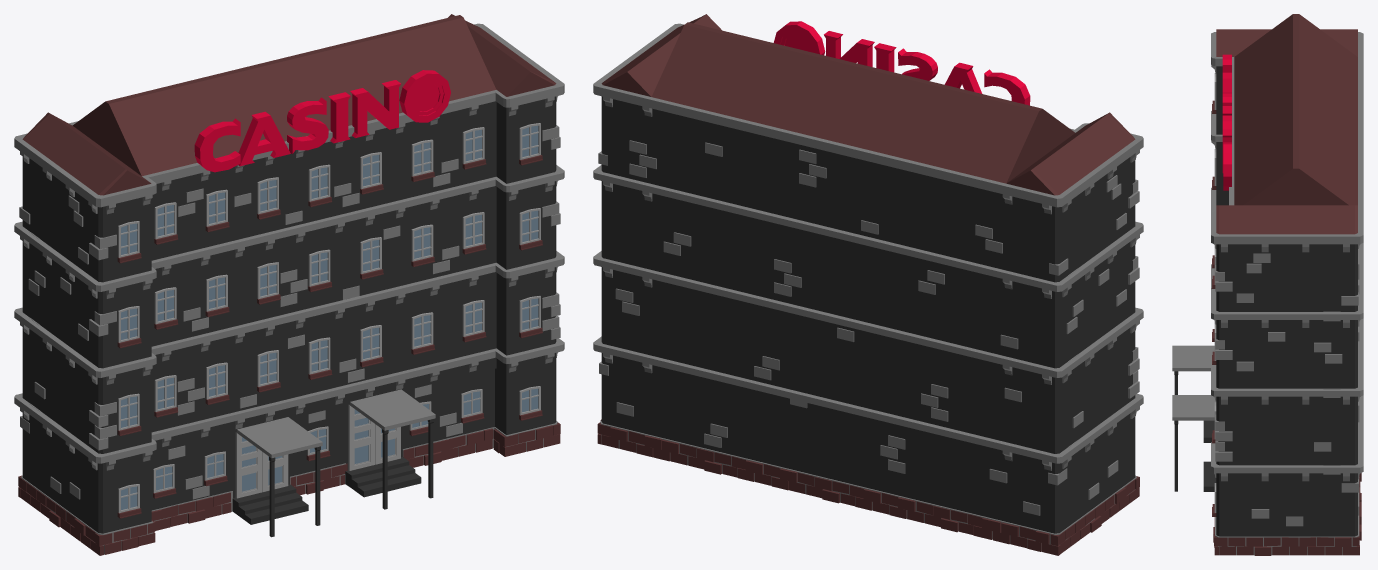
The model's file is Casino.fbx.
The picture shows the model from 3 angles, left to right: view 1: azimuth 30°, elevation 25°; view 2: azimuth 150°, elevation 25°; view 3: azimuth 270°, elevation 25°; orthographic projection. The views are drawn at different scales.
Parts seen in each view (by area): view 1: 4Story_Wide_2Doors_Roof_Mat, CasinoSign; view 2: 4Story_Wide_2Doors_Roof_Mat, CasinoSign; view 3: 4Story_Wide_2Doors_Roof_Mat, CasinoSign.
Boxes of the visible parts, left/top/right/bottom form: 4Story_Wide_2Doors_Roof_Mat: left=14, top=14, right=564, bottom=555; CasinoSign: left=194, top=70, right=450, bottom=172; 4Story_Wide_2Doors_Roof_Mat: left=593, top=14, right=1143, bottom=555; CasinoSign: left=773, top=21, right=1030, bottom=105; 4Story_Wide_2Doors_Roof_Mat: left=1172, top=14, right=1363, bottom=555; CasinoSign: left=1222, top=54, right=1231, bottom=190.
Size of the model in its own units: 683 by 568 by 270.
